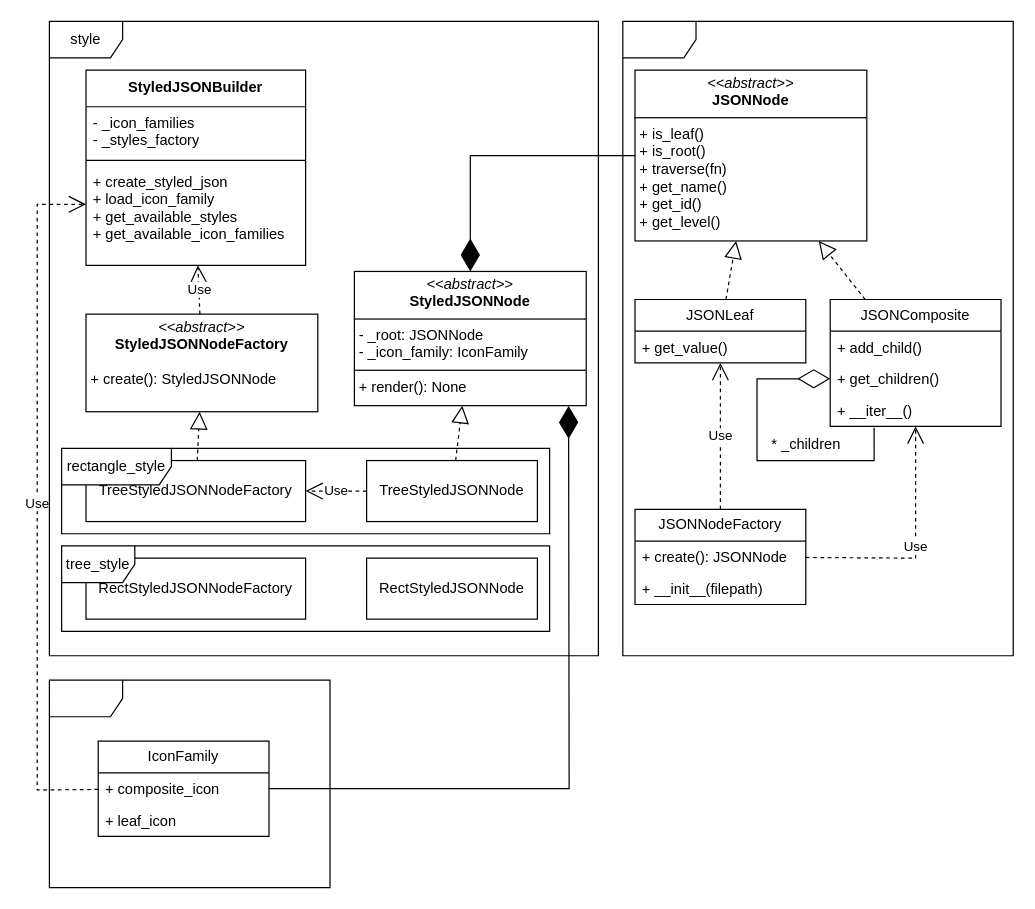
The diagram is 1035 pixels wide and 909 high, and some of its shapes have lost their labels. The shapes that lost their labels are listed below. From the top down, each one's box as (x1, y1, x2, y2) in pixels, then its label:
(622, 20, 1013, 656): node
(48, 679, 330, 888): icon
